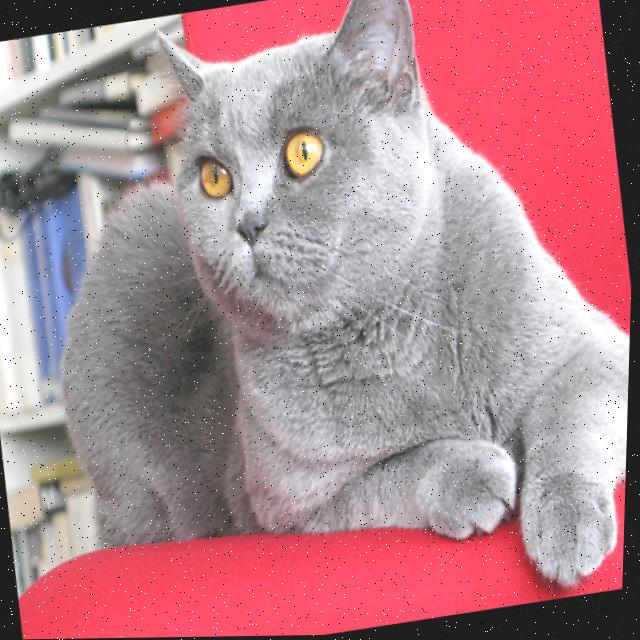British Shorthair: (4, 0, 640, 640)
